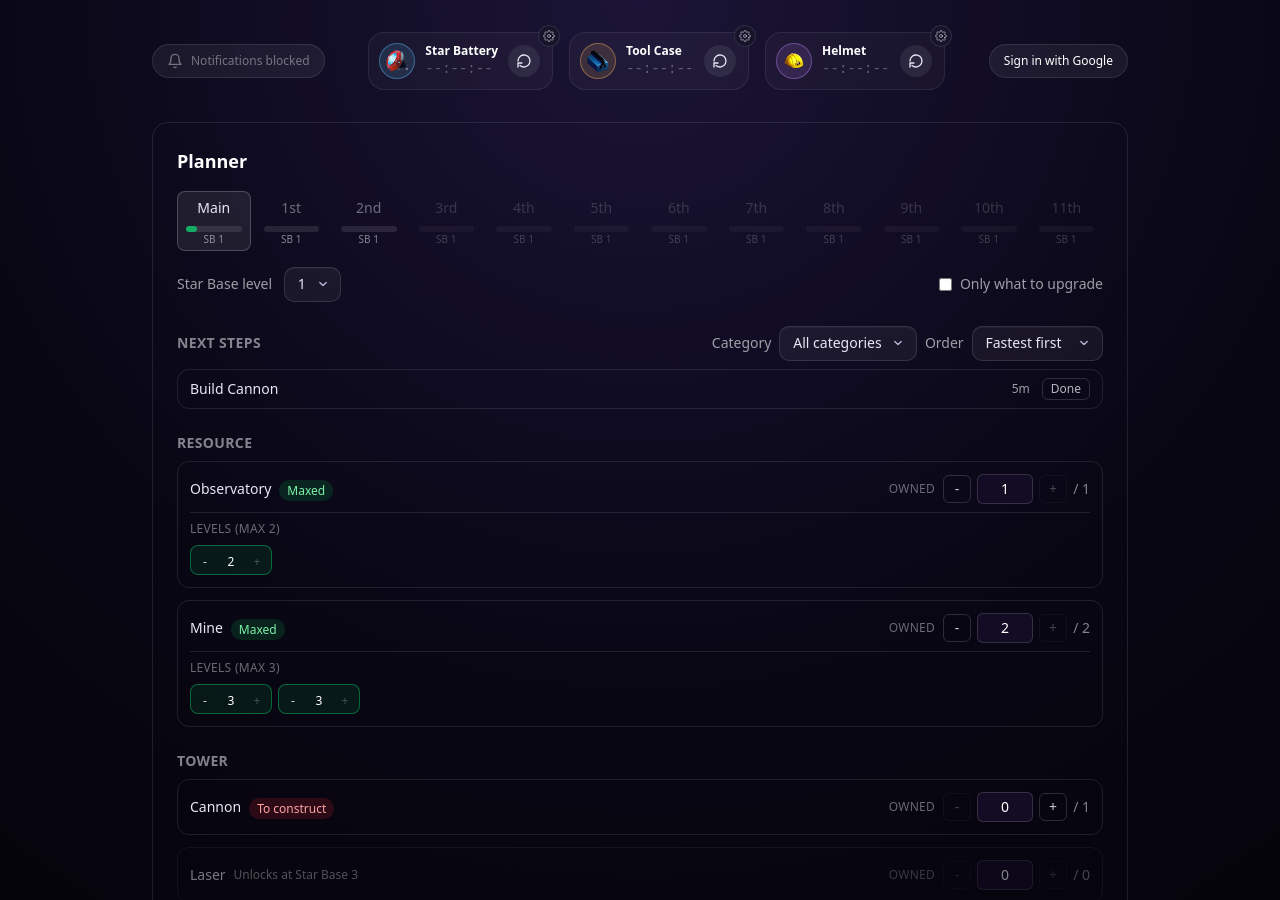
Test: App › Planner › Next steps › Done › adds an instance at level 1 for a build step
The width and height of the screenshot is (1280, 900).
Click the button with aria-label "Done Build Cannon".
click(1066, 389)  # box [1042,378,1090,400]
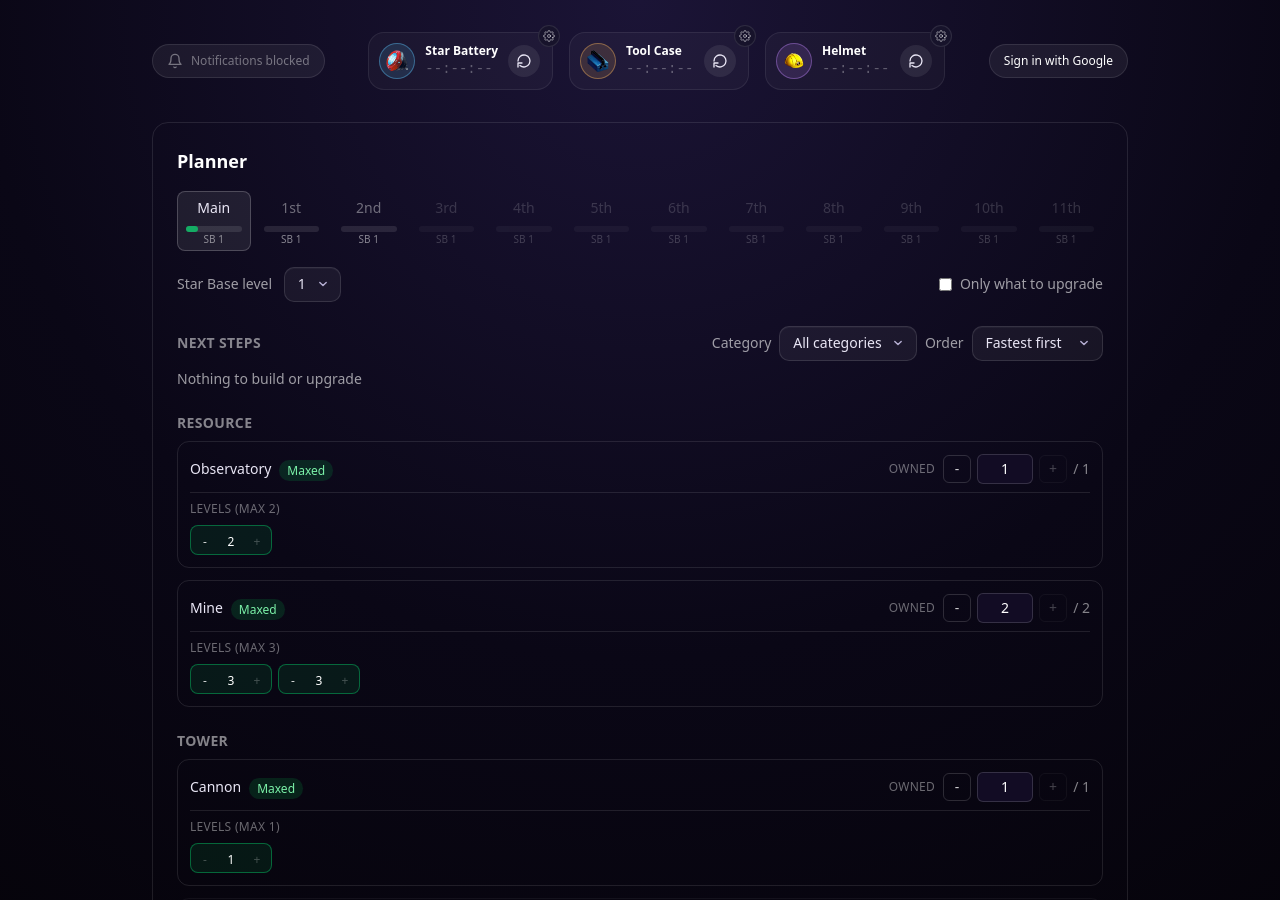
Result: the text "Nothing to build or upgrade" is shown at [177,369,362,388]
